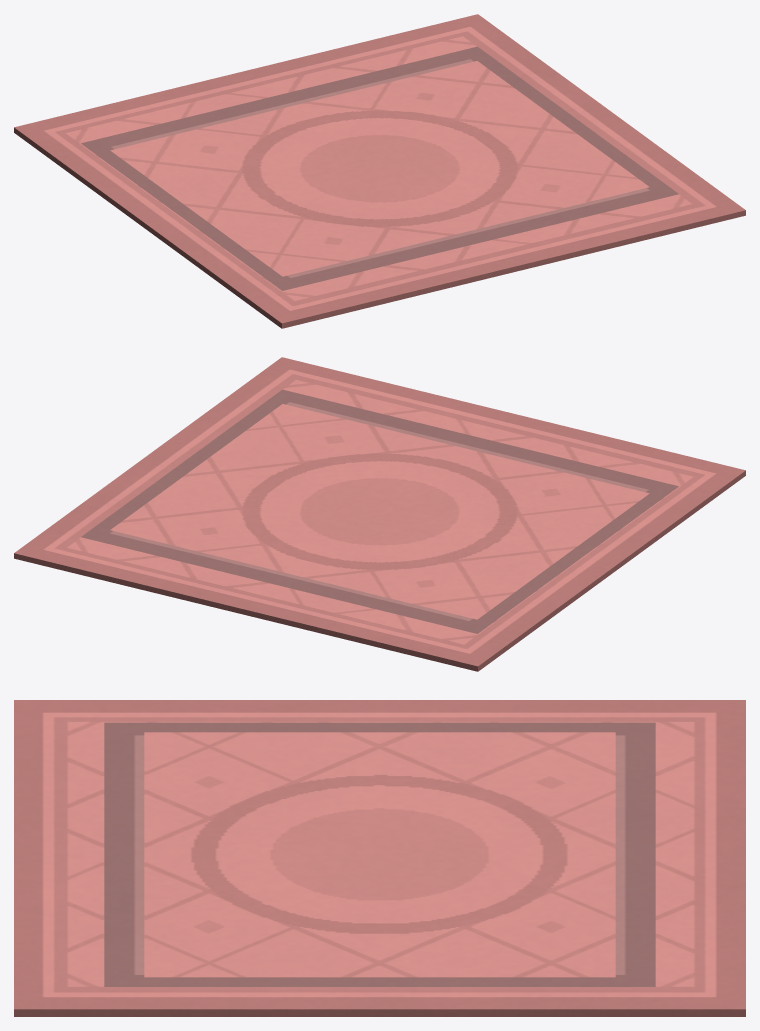
Rendered from rug.glb.
The picture shows the model from 3 angles, top to bottom: view 1: azimuth 30°, elevation 25°; view 2: azimuth 150°, elevation 25°; view 3: azimuth 270°, elevation 25°; orthographic projection. The views are drawn at different scales.
Parts seen in each view (by area): view 1: rug; view 2: rug; view 3: rug.
Boxes of the visible parts, x1,y1,x2,y2 form: rug: [14, 14, 745, 328]; rug: [14, 357, 745, 671]; rug: [14, 700, 745, 1016].
Size of the model in its own units: 1.8 by 0.02 by 1.8.
2 materials, 2 textured.
